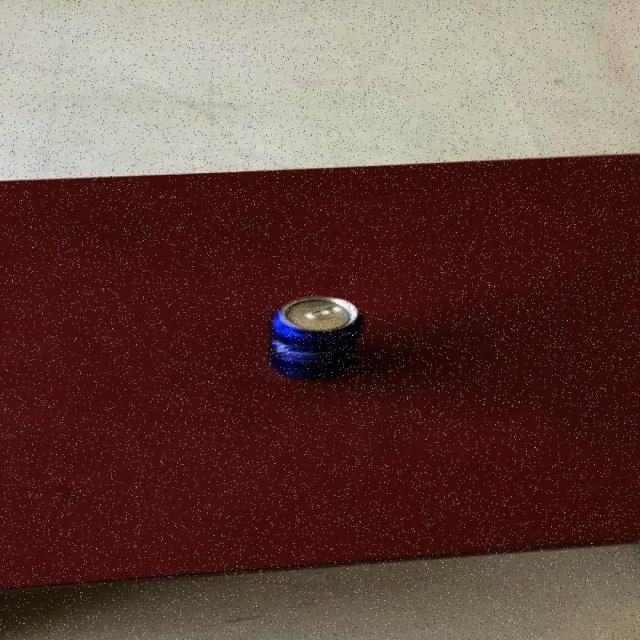Tonic: (266, 294, 362, 380)
